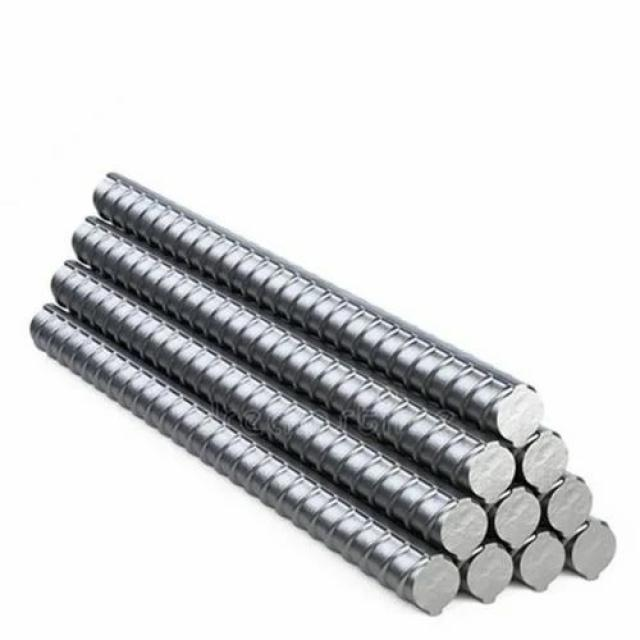Rebar: (491, 379, 547, 442), (469, 435, 519, 496), (518, 534, 569, 592), (440, 495, 491, 553), (496, 488, 547, 546), (573, 518, 617, 580), (415, 555, 460, 614), (469, 547, 515, 604), (522, 434, 569, 488), (549, 472, 594, 520)
